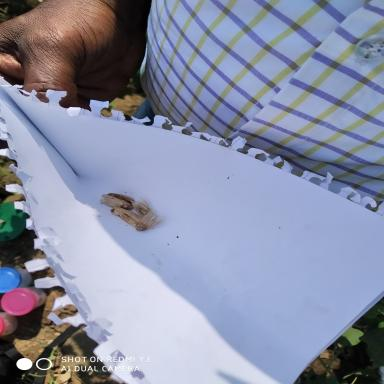abw: (102, 187, 138, 209), (109, 204, 145, 226), (130, 198, 158, 224), (135, 210, 166, 233)
